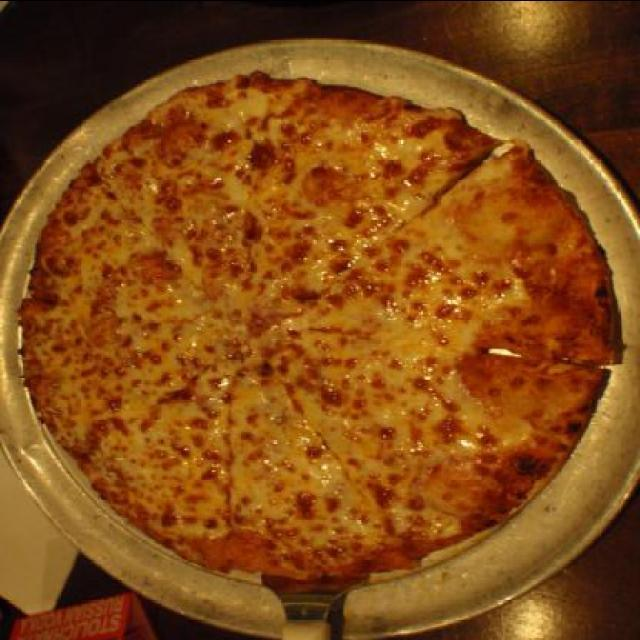Pizza: (9, 74, 600, 576)
